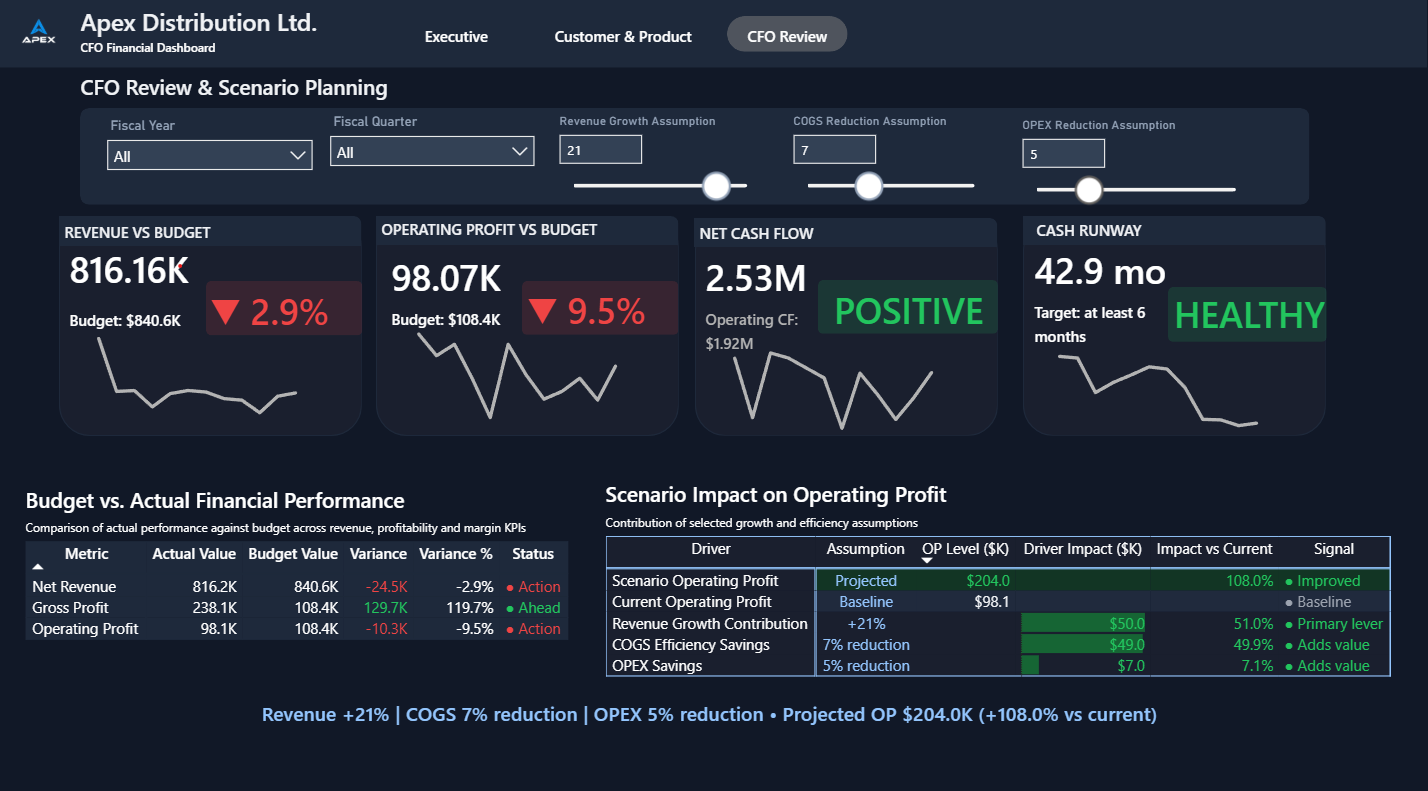

Layout of this report page (visuals, bound fields, positions):
{"tool":"powerbi","page":{"name":"CFO Review","canvas":[1280,720],"ordinal":2},"visuals":[{"type":"shape","box":[73.3,100,1101.1,86.7],"z":0},{"type":"shape","box":[0,0,1279.7,64.5],"z":1000},{"type":"textbox","box":[68.9,3.9,520.6,55.6],"z":2000},{"type":"actionButton","box":[652.4,18.2,108,32],"z":3000},{"type":"actionButton","box":[482.6,18.2,154.5,32],"z":4000},{"type":"actionButton","box":[354.1,18.2,113.5,32],"z":5000},{"type":"slicer","fields":{"Values":["Dim_Calendar.FiscalYear"]},"box":[88.2,103.6,203.6,66.4],"z":6000},{"type":"textbox","box":[69,63.6,333.1,44.8],"z":7000},{"type":"shape","box":[54.6,197,271.3,197],"z":8000},{"type":"shape","box":[185.9,255.2,140,48.8],"z":9000},{"type":"cardVisual","fields":{"Data":["Measure.Net Revenue"]},"box":[34.9,203.3,174.6,125.4],"z":10000},{"type":"shape","box":[54.6,196.9,270.8,26.9],"z":11000},{"type":"textbox","box":[55,198,165,27],"z":12000},{"type":"lineChart","fields":{"Category":["Dim_Calendar.FiscalMonth"],"Y":["Revenue Growth Assumption.Revenue Budget Variance"]},"box":[59.1,283,270.4,103.9],"z":13000},{"type":"cardVisual","fields":{"Data":["Revenue Growth Assumption.Revenue Budget Variance Label"]},"box":[172.8,246.3,172.8,66.3],"z":14000},{"type":"shape","box":[338.5,197,271.3,197],"z":15000},{"type":"shape","box":[469.2,255.4,140,48.5],"z":16000},{"type":"cardVisual","fields":{"Data":["Measure.Operating Profit"]},"box":[323.3,215.8,175.5,217.6],"z":17000},{"type":"shape","box":[338.5,197.2,270.9,26.4],"z":18000},{"type":"textbox","box":[338.9,195.6,251.1,28.9],"z":19000},{"type":"lineChart","fields":{"Category":["Dim_Calendar.FiscalMonth"],"Y":["Revenue Growth Assumption.Operating Profit Budget Variance %"]},"box":[345.7,283,270.4,103.9],"z":20000},{"type":"cardVisual","fields":{"Data":["Revenue Growth Assumption.Operating Profit Budget Variance Label"]},"box":[456.7,244.5,180.9,69.9],"z":21000},{"type":"shape","box":[624.2,199.7,271.3,194.3],"z":22000},{"type":"shape","box":[623.7,198.6,271.6,26.3],"z":23000},{"type":"textbox","box":[623.7,198.6,172.1,27.4],"z":24000},{"type":"shape","box":[917.9,199.7,271.3,194.3],"z":25000},{"type":"shape","box":[1047.8,260.6,142.4,49.3],"z":26000},{"type":"shape","box":[918,197,271.3,26],"z":27000},{"type":"textbox","box":[924.7,196.3,172.7,27.3],"z":28000},{"type":"lineChart","fields":{"Category":["Dim_Calendar.FiscalMonth"],"Y":["KPI Helpers.Cash Runway"]},"box":[919.7,291,270.4,103],"z":29000},{"type":"cardVisual","fields":{"Data":["KPI Helpers.Cash Runway Status"]},"box":[1036.1,247.2,186.3,71.6],"z":30000},{"type":"cardVisual","fields":{"Data":["KPI Helpers.Cash Runway Display"]},"box":[899.1,209.6,181.8,218.5],"z":31000},{"type":"slicer","fields":{"Values":["Dim_Calendar.FiscalQuarter"]},"box":[287.5,100,202.5,68.8],"z":32000},{"type":"slicer","fields":{"Values":["Revenue Growth Assumption.Revenue Growth Assumption"]},"box":[490,100,202.2,94.4],"z":33000},{"type":"slicer","fields":{"Values":["COGS Reduction Assumption.COGS Reduction Assumption"]},"box":[699.1,100,196.4,93.6],"z":34000},{"type":"slicer","fields":{"Values":["OPEX Reduction Assumption.OPEX Reduction Assumption"]},"box":[904.5,103.6,224.5,98.2],"z":35000},{"type":"cardVisual","fields":{"Data":["Measure.Net Cash Flow"]},"box":[604.5,215.8,175.5,217.6],"z":36000},{"type":"shape","box":[734.3,254.3,161.2,48.4],"z":37000},{"type":"cardVisual","fields":{"Data":["KPI Helpers.Net Cash Flow Status"]},"box":[731.6,244.5,200.6,69.9],"z":38000},{"type":"lineChart","fields":{"Category":["Dim_Calendar.FiscalMonth"],"Y":["Measure.Net Cash Flow"]},"box":[628.7,290.1,270.4,103.9],"z":39000},{"type":"pivotTable","title":"Budget vs. Actual Financial Performance","fields":{"Rows":["Budget Metrics.Metric"],"Values":["Budget Metrics.Actual Value","Revenue Growth Scenario.Budget Value","Revenue Growth Scenario.Variance","Revenue Growth Scenario.Variance %","Budget Metrics.Status"]},"box":[20,433.6,505.5,152.7],"z":40000},{"type":"pivotTable","title":"Scenario Impact on Operating Profit","fields":{"Rows":["Scenario Impact Steps.Scenario Driver"],"Values":["COGS Reduction Assumption.Scenario Assumption Label","COGS Reduction Assumption.Scenario OP Level K","COGS Reduction Assumption.Scenario Driver Impact K","COGS Reduction Assumption.Scenario Impact vs Current OP %","COGS Reduction Assumption.Scenario Signal"]},"box":[539.1,433.4,714.6,224.8],"z":41000},{"type":"cardVisual","fields":{"Data":["COGS Reduction Assumption.Scenario Impact Dynamic Subtitle"]},"box":[230.1,609,845.4,62.7],"z":42000},{"type":"image","box":[0,0,72.7,63.6],"z":43000}]}

Visuals, with their boxes in screenshot pixels (x1, y1, x2, y2), scaled from the page's 1280x720 canvas onto the 1428x791 screenshot:
shape: [left=82, top=110, right=1310, bottom=205]
shape: [left=0, top=0, right=1427, bottom=71]
textbox: [left=77, top=4, right=658, bottom=65]
actionButton: [left=728, top=20, right=848, bottom=55]
actionButton: [left=538, top=20, right=711, bottom=55]
actionButton: [left=395, top=20, right=522, bottom=55]
slicer - Dim_Calendar.FiscalYear: [left=98, top=114, right=326, bottom=187]
textbox: [left=77, top=70, right=449, bottom=119]
shape: [left=61, top=216, right=364, bottom=433]
shape: [left=207, top=280, right=364, bottom=334]
cardVisual - Measure.Net Revenue: [left=39, top=223, right=234, bottom=361]
shape: [left=61, top=216, right=363, bottom=246]
textbox: [left=61, top=218, right=245, bottom=247]
lineChart - Dim_Calendar.FiscalMonth x Revenue Growth Assumption.Revenue Budget Variance: [left=66, top=311, right=368, bottom=425]
cardVisual - Revenue Growth Assumption.Revenue Budget Variance Label: [left=193, top=271, right=386, bottom=343]
shape: [left=378, top=216, right=680, bottom=433]
shape: [left=523, top=281, right=680, bottom=334]
cardVisual - Measure.Operating Profit: [left=361, top=237, right=556, bottom=476]
shape: [left=378, top=217, right=680, bottom=246]
textbox: [left=378, top=215, right=658, bottom=247]
lineChart - Dim_Calendar.FiscalMonth x Revenue Growth Assumption.Operating Profit Budget Variance %: [left=386, top=311, right=687, bottom=425]
cardVisual - Revenue Growth Assumption.Operating Profit Budget Variance Label: [left=510, top=269, right=711, bottom=345]
shape: [left=696, top=219, right=999, bottom=433]
shape: [left=696, top=218, right=999, bottom=247]
textbox: [left=696, top=218, right=888, bottom=248]
shape: [left=1024, top=219, right=1327, bottom=433]
shape: [left=1169, top=286, right=1328, bottom=340]
shape: [left=1024, top=216, right=1327, bottom=245]
textbox: [left=1032, top=216, right=1224, bottom=246]
lineChart - Dim_Calendar.FiscalMonth x KPI Helpers.Cash Runway: [left=1026, top=320, right=1328, bottom=433]
cardVisual - KPI Helpers.Cash Runway Status: [left=1156, top=272, right=1364, bottom=350]
cardVisual - KPI Helpers.Cash Runway Display: [left=1003, top=230, right=1206, bottom=470]
slicer - Dim_Calendar.FiscalQuarter: [left=321, top=110, right=547, bottom=185]
slicer - Revenue Growth Assumption.Revenue Growth Assumption: [left=547, top=110, right=772, bottom=214]
slicer - COGS Reduction Assumption.COGS Reduction Assumption: [left=780, top=110, right=999, bottom=213]
slicer - OPEX Reduction Assumption.OPEX Reduction Assumption: [left=1009, top=114, right=1260, bottom=222]
cardVisual - Measure.Net Cash Flow: [left=674, top=237, right=870, bottom=476]
shape: [left=819, top=279, right=999, bottom=333]
cardVisual - KPI Helpers.Net Cash Flow Status: [left=816, top=269, right=1040, bottom=345]
lineChart - Dim_Calendar.FiscalMonth x Measure.Net Cash Flow: [left=701, top=319, right=1003, bottom=433]
"Budget vs. Actual Financial Performance" pivotTable: [left=22, top=476, right=586, bottom=644]
"Scenario Impact on Operating Profit" pivotTable: [left=601, top=476, right=1399, bottom=723]
cardVisual - COGS Reduction Assumption.Scenario Impact Dynamic Subtitle: [left=257, top=669, right=1200, bottom=738]
image: [left=0, top=0, right=81, bottom=70]
